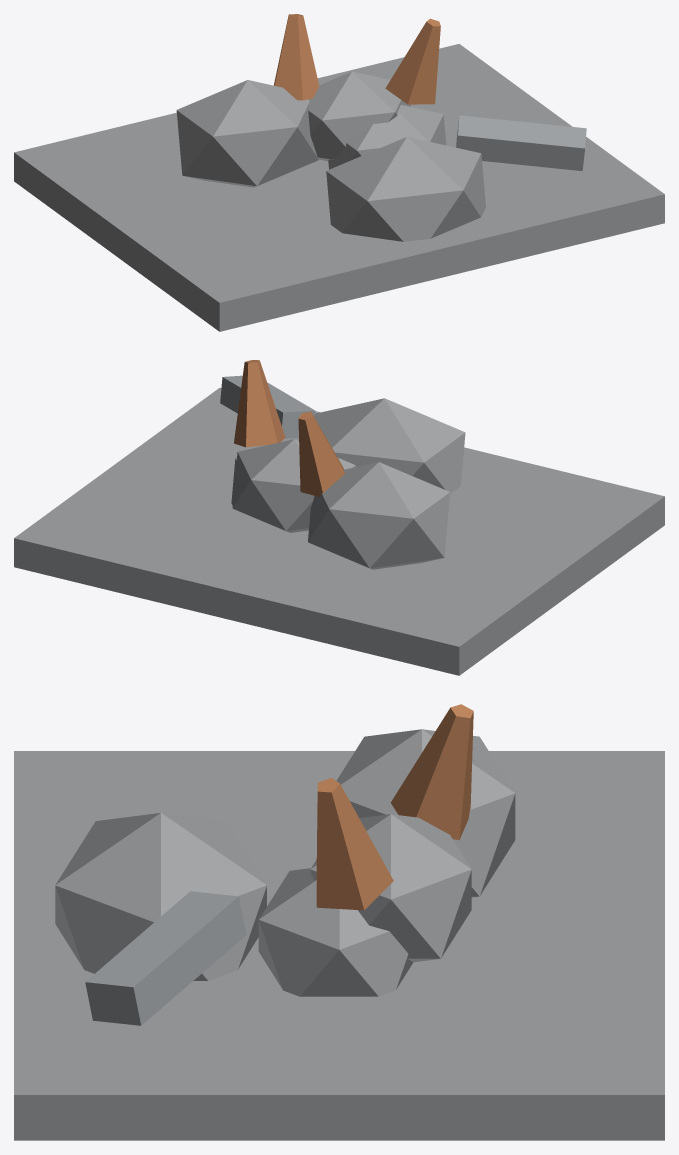
The model's file is harthmere_north_iron_vein.lod1.glb.
3 renders of one model, top to bottom at view 1: azimuth 30°, elevation 25°; view 2: azimuth 150°, elevation 25°; view 3: azimuth 270°, elevation 25°, orthographic. The views are drawn at different scales.
Bounding box in the file's own units: 2.25 × 0.8843 × 1.8.
